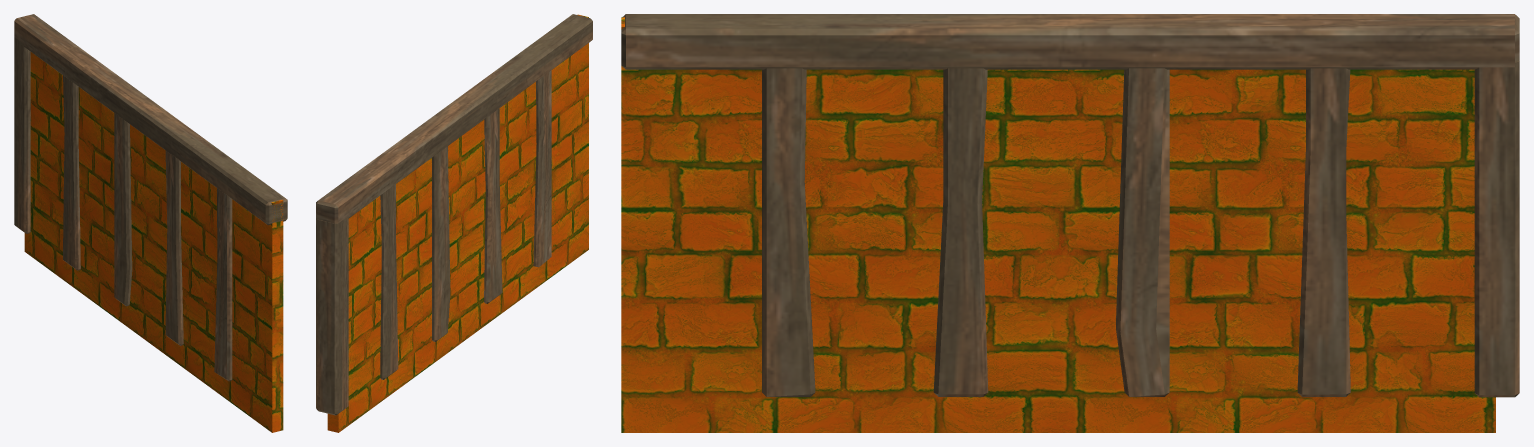
Rendered from SM_wall_17.fbx.
3 renders of one model, left to right at view 1: azimuth 30°, elevation 25°; view 2: azimuth 150°, elevation 25°; view 3: azimuth 270°, elevation 25°, orthographic. The views are drawn at different scales.
Visible parts, largest first — view 1: SM_wall_17_LOD0; view 2: SM_wall_17_LOD0; view 3: SM_wall_17_LOD0.
Part boxes in pixels (x1,y1,x2,y2): SM_wall_17_LOD0: (14, 14, 287, 432); SM_wall_17_LOD0: (316, 14, 592, 432); SM_wall_17_LOD0: (621, 14, 1519, 432).
Bounding box in the file's own units: 20 × 400 × 200.
2 materials, 2 textured.
